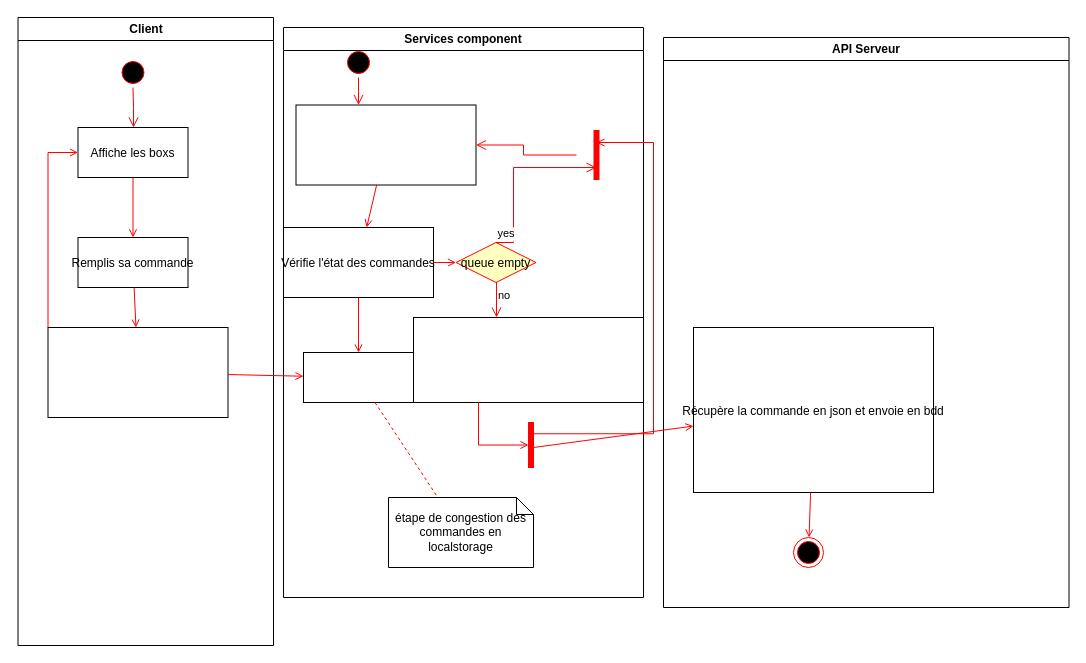
The diagram is 1086 pixels wide and 663 high, and some of its shapes have lost their labels. The centre of each missing label's shape, as x and y in pixels:
Commande Queue: pixel 358 377
Dispatch les commandes en LocalStorage: pixel 528 359
Envoie la commande ou non: pixel 137 372
Traite l'affichage des commandes: pixel 385 144
